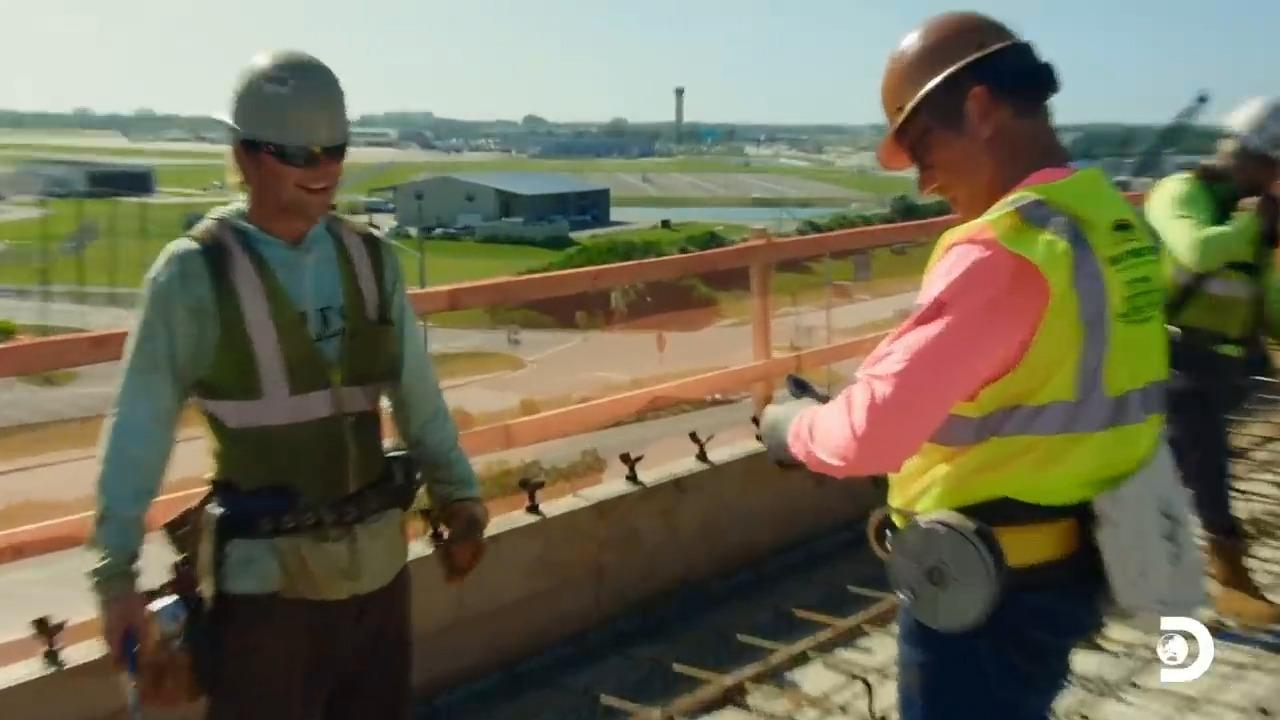Gloves: (1176, 181, 1271, 326), (761, 387, 837, 479), (424, 498, 497, 573)
Helmet: (880, 10, 1020, 137), (228, 48, 349, 148), (1223, 94, 1279, 161)
Person: (751, 10, 1176, 718), (86, 48, 489, 718), (1142, 96, 1279, 630)
Safety Boot: (1198, 553, 1268, 625)
Safety Vest: (905, 210, 1115, 484), (196, 263, 405, 510)
bare-arms: (93, 574, 168, 672)
